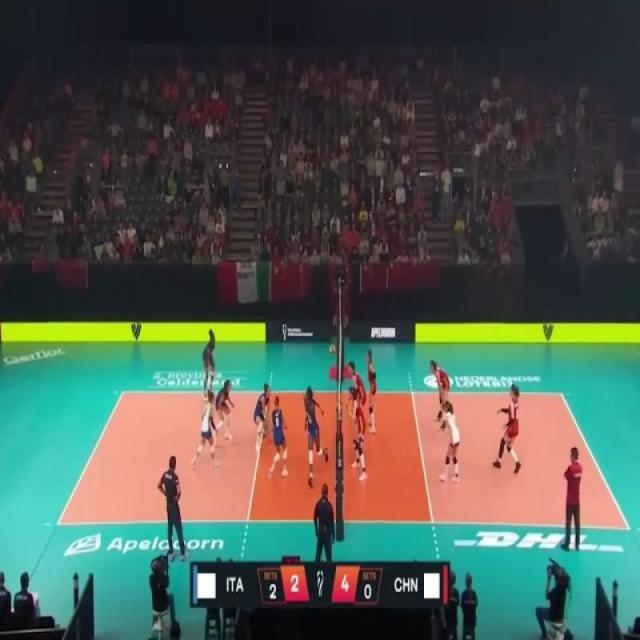volleyball: (329, 344, 336, 356)
